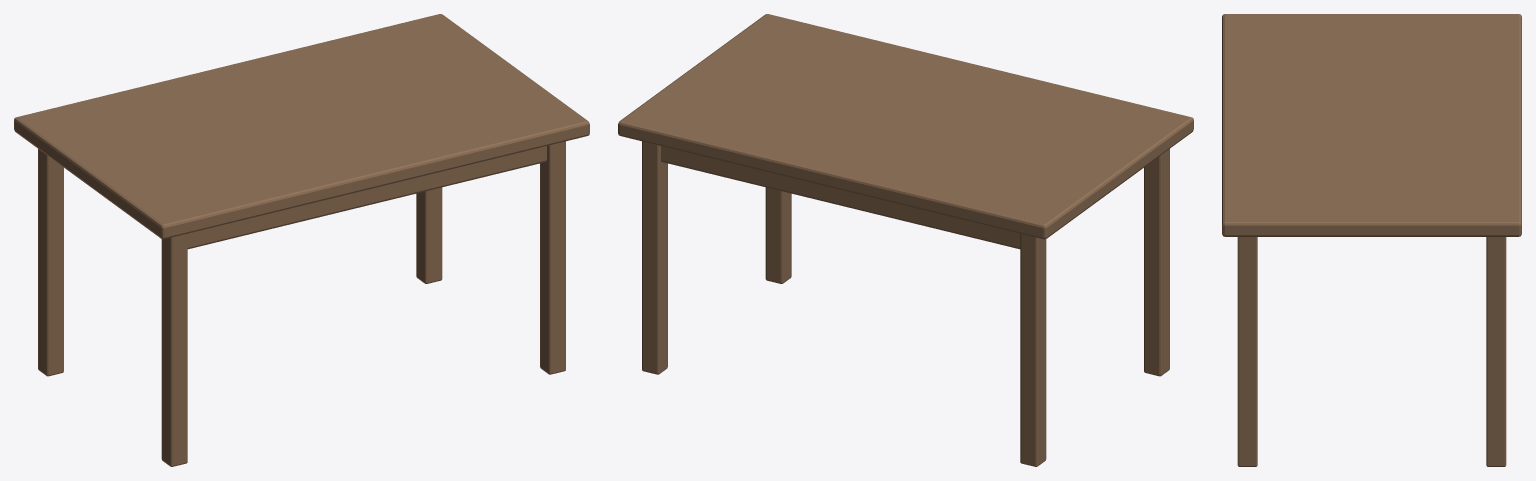
The model's file is dining_table.glb.
The picture shows the model from 3 angles, left to right: view 1: azimuth 30°, elevation 25°; view 2: azimuth 150°, elevation 25°; view 3: azimuth 270°, elevation 25°; orthographic projection.
Parts seen in each view (by area): view 1: DiningTop, DLeg_-0.6_-0.34, ApronX1, DLeg_0.6_-0.34, DLeg_-0.6_0.34, DLeg_0.6_0.34; view 2: DiningTop, DLeg_-0.6_0.34, ApronX2, DLeg_0.6_0.34, DLeg_-0.6_-0.34, DLeg_0.6_-0.34; view 3: DiningTop, DLeg_0.6_-0.34, DLeg_0.6_0.34.
Part boxes in pixels (x1,y1,x2,y2): DiningTop: (14, 14, 589, 239); DLeg_-0.6_-0.34: (161, 233, 187, 466); ApronX1: (187, 146, 546, 249); DLeg_0.6_-0.34: (540, 141, 565, 374); DLeg_-0.6_0.34: (38, 149, 63, 376); DLeg_0.6_0.34: (416, 187, 442, 283); DiningTop: (618, 14, 1193, 239); DLeg_-0.6_0.34: (1020, 233, 1046, 466); ApronX2: (661, 146, 1020, 249); DLeg_0.6_0.34: (642, 141, 667, 374); DLeg_-0.6_-0.34: (1144, 149, 1169, 376); DLeg_0.6_-0.34: (765, 187, 791, 283); DiningTop: (1222, 14, 1521, 236); DLeg_0.6_-0.34: (1237, 237, 1257, 466); DLeg_0.6_0.34: (1486, 237, 1506, 466).
Bounding box in the file's own units: 1.36 × 0.7625 × 0.82.
